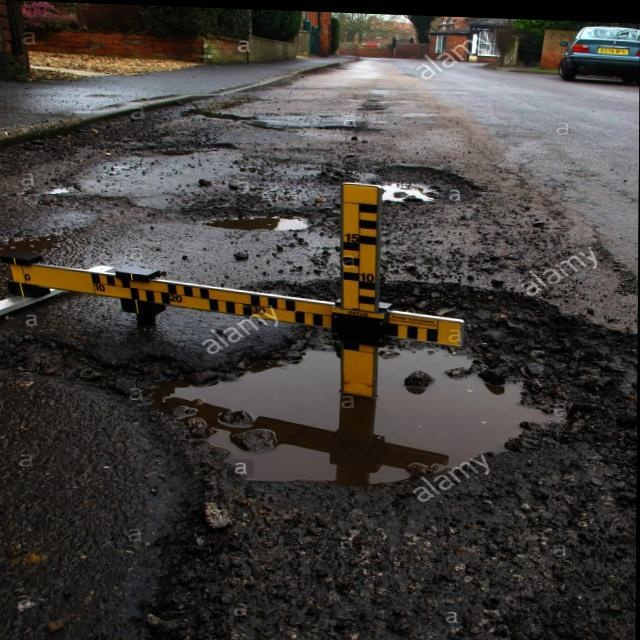pothole: (365, 341, 556, 486), (166, 344, 338, 434), (208, 440, 334, 481), (1, 238, 56, 265), (205, 503, 233, 529)
